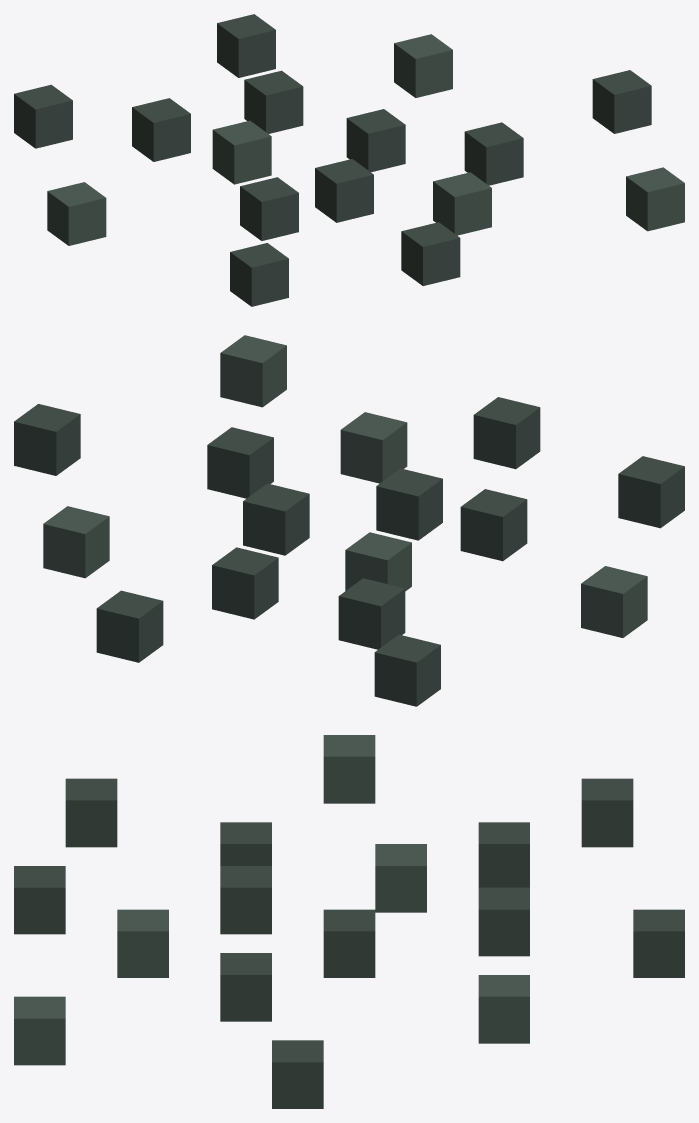
The model's file is Stones1.obj.
3 renders of one model, top to bottom at view 1: azimuth 30°, elevation 25°; view 2: azimuth 150°, elevation 25°; view 3: azimuth 270°, elevation 25°, orthographic. The views are drawn at different scales.
Parts seen in each view (by area): view 1: Stones1; view 2: Stones1; view 3: Stones1.
Part boxes in pixels (left/top/right/bottom): Stones1: left=14, top=14, right=684, bottom=306; Stones1: left=14, top=335, right=684, bottom=706; Stones1: left=14, top=735, right=684, bottom=1108.
Size of the model in its own units: 1.5 by 0.1 by 1.3.
Materials: 1 (1 with a texture image).
